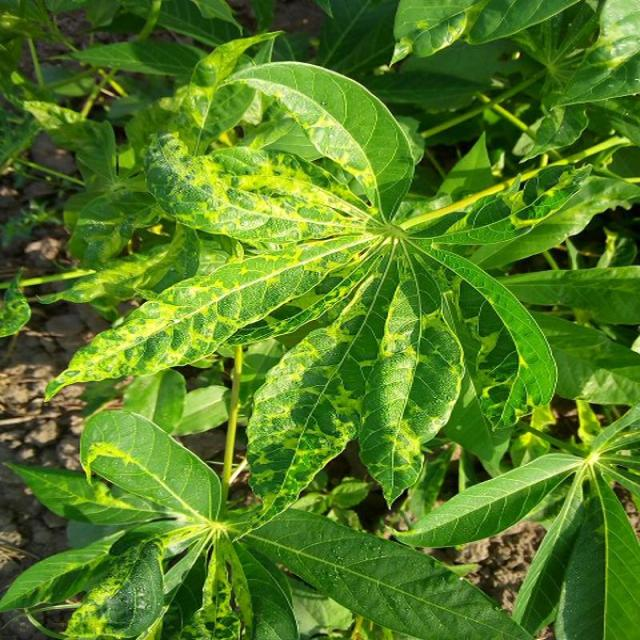cassava leaf: (42, 41, 563, 522)
